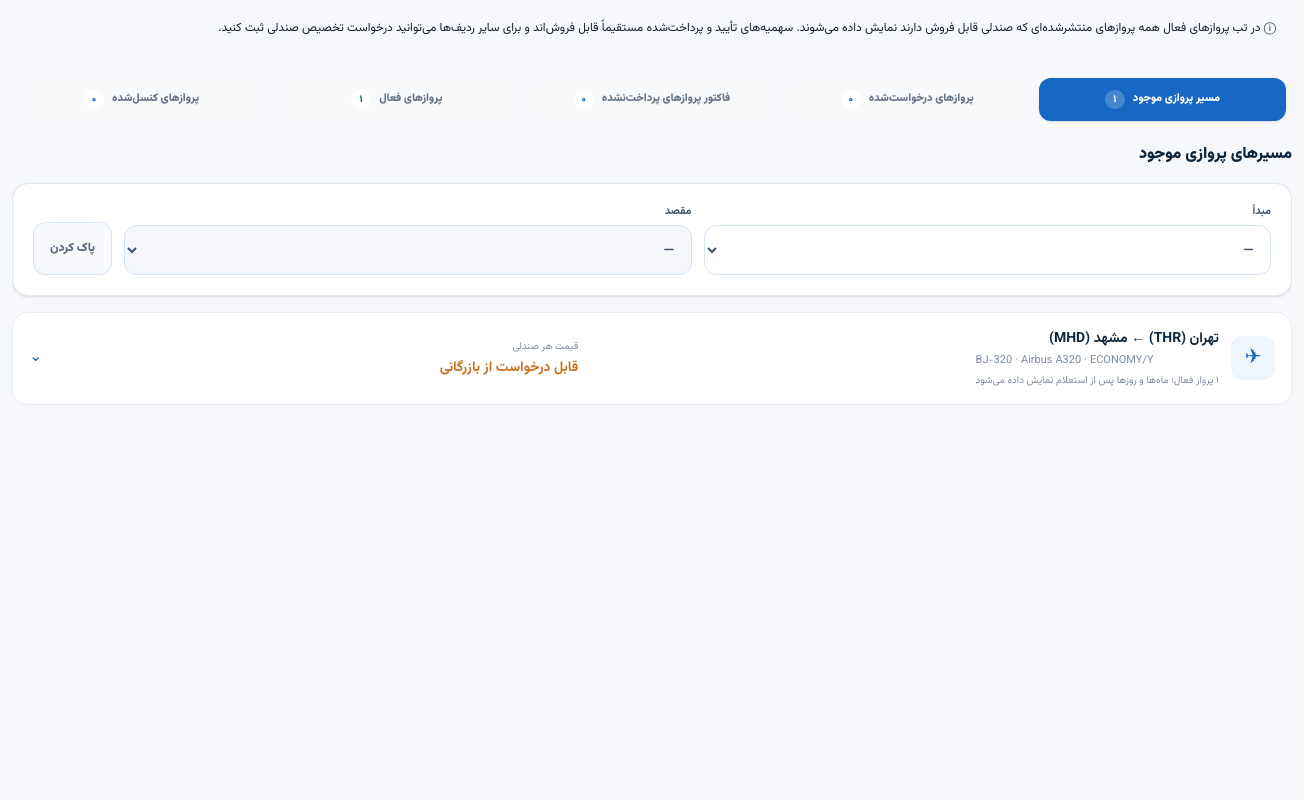
it: AgencySeatsPage › keeps a published route visible while commercial allocation is still zero
Select "تهران (THR)" in the dropdown with test id "agency-request-origin" at (987, 250), box [704, 224, 1271, 274]
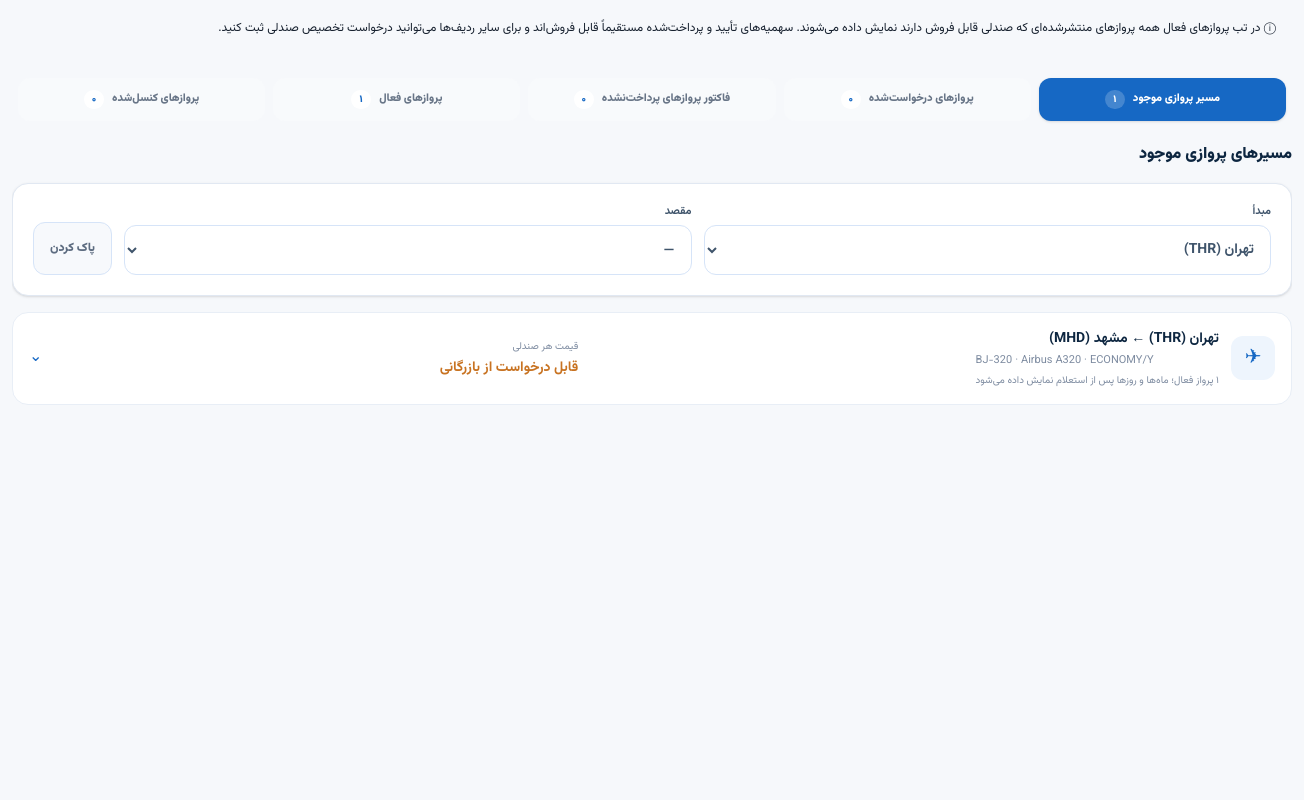
Select "مشهد (MHD)" in the dropdown with test id "agency-request-destination" at (408, 250), box [124, 224, 692, 274]
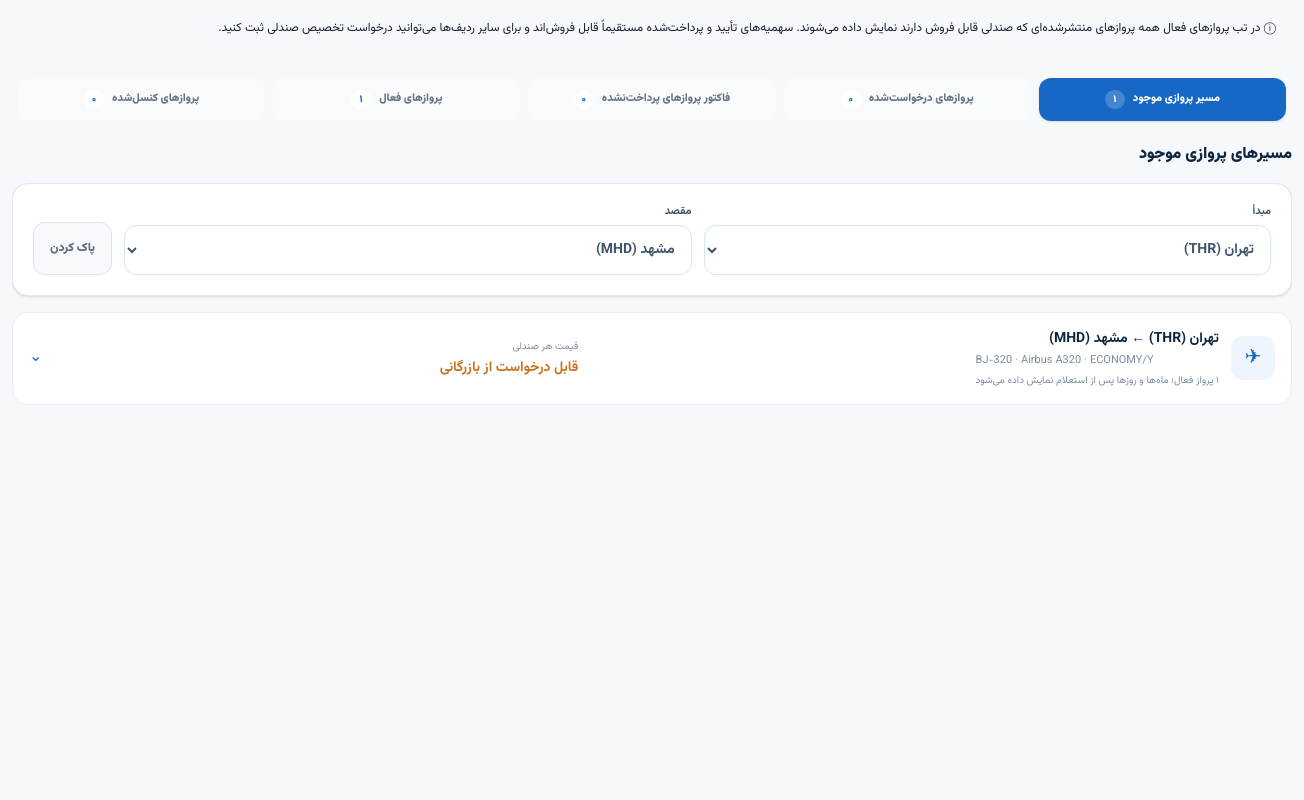
Click the button with test id "agency-request-route-fi-awaiting-release".
click(1253, 358)  # box [13, 312, 1291, 404]
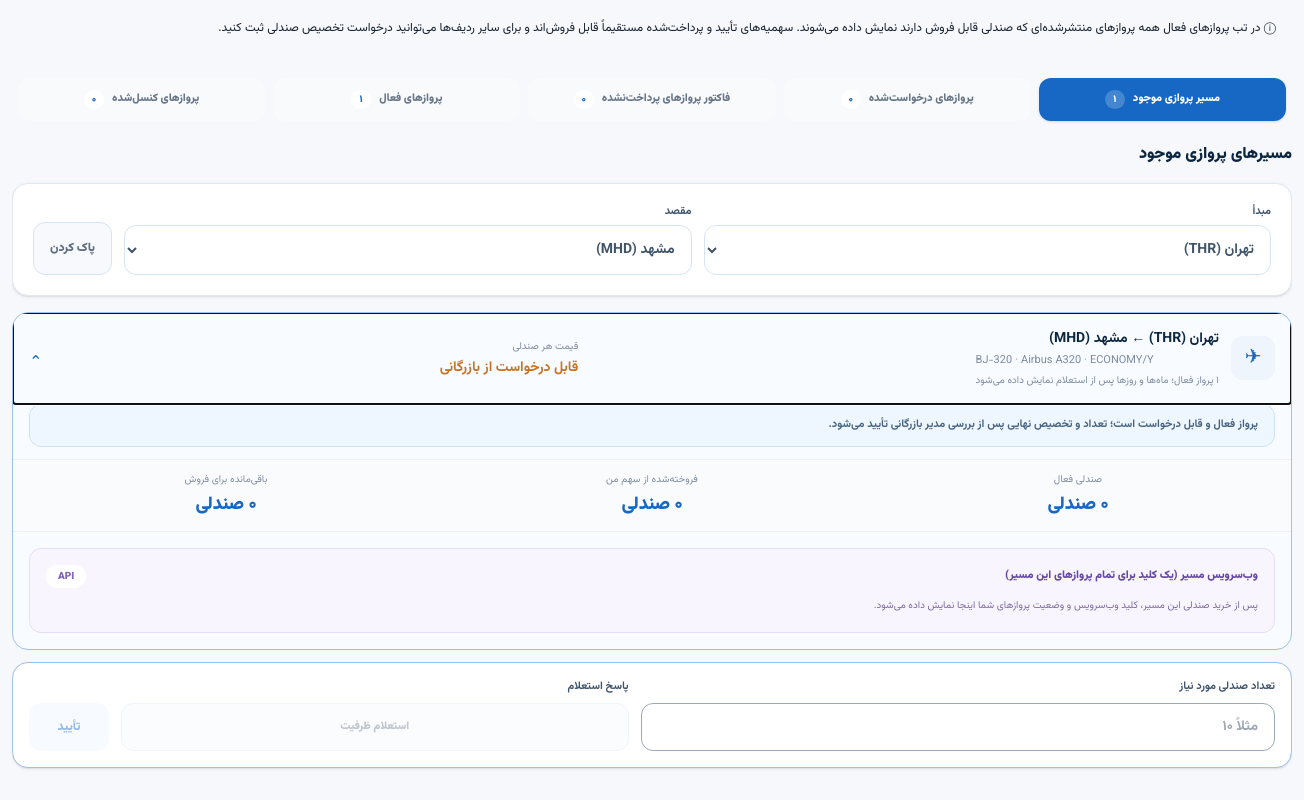
Expected: the text "قابل درخواست از بازرگانی" is shown, [440, 358, 578, 378]
Now the text "پرواز فعال و قابل درخواست است" is shown, box [828, 416, 1258, 433]
Type "10" into the number field with test id "agency-request-seat-count".
click(958, 727); type("10")  # box [641, 703, 1275, 751]
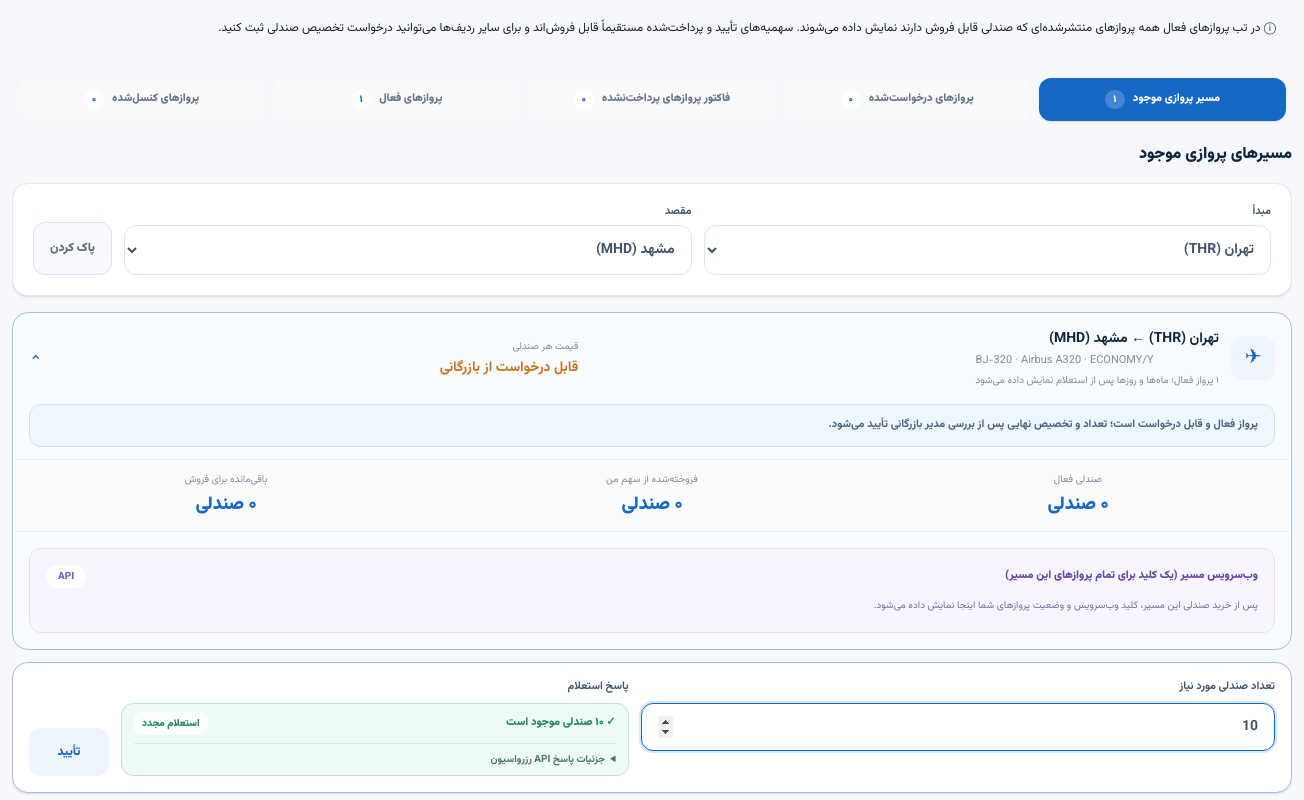
Now the element with test id "agency-seat-inquiry-result" shows "۱۰ صندلی موجود است", box [506, 714, 604, 731]
Now the button with test id "agency-seat-inquiry-confirm" is enabled, box [29, 728, 109, 776]
